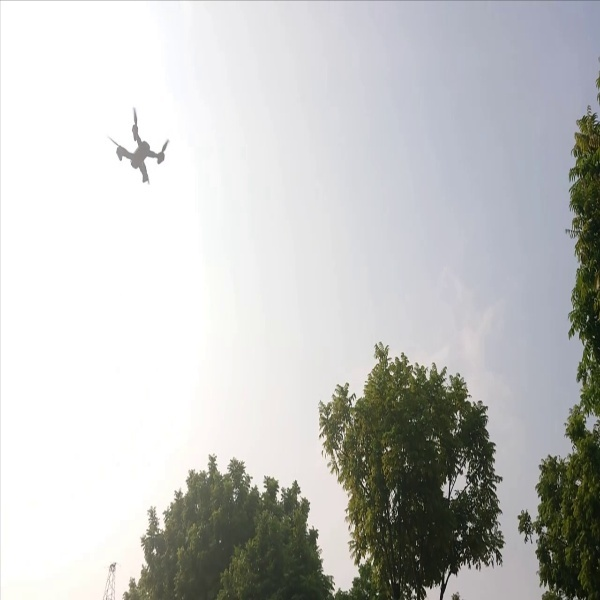drone: (107, 105, 175, 191)
